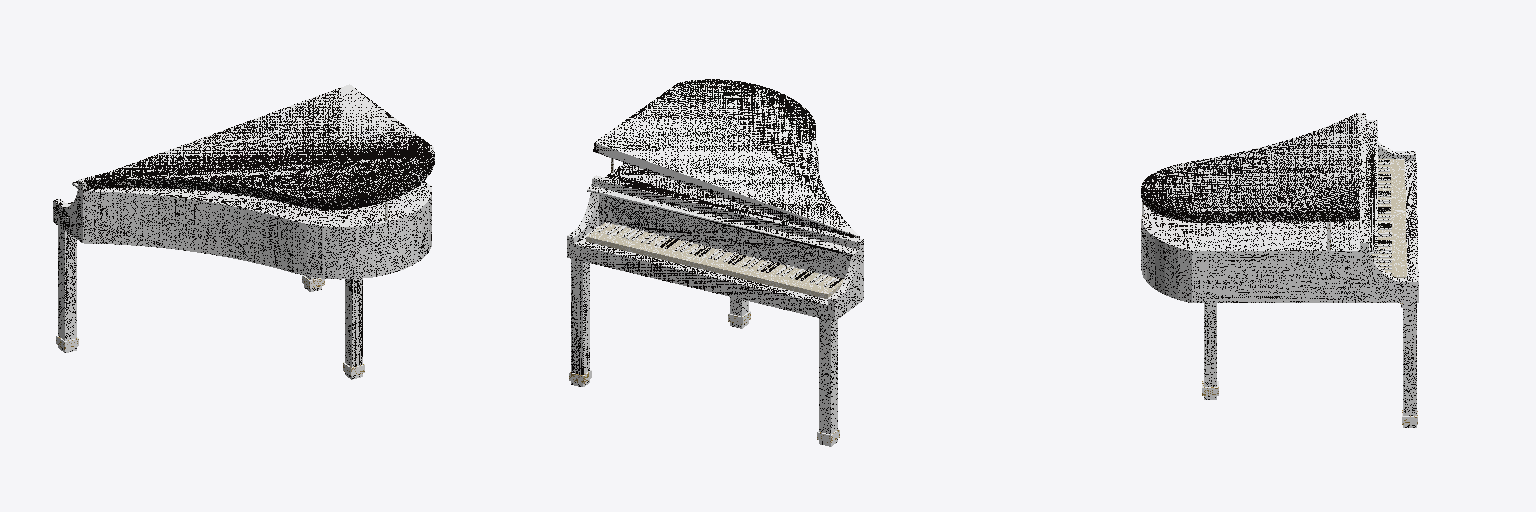
The picture shows the model from 3 angles: view 1: azimuth 30°, elevation 25°; view 2: azimuth 150°, elevation 25°; view 3: azimuth 270°, elevation 25°; orthographic projection.
Visible parts, largest first — view 1: mesh5_mesh5-geometry, mesh9_mesh9-geometry, mesh1_mesh1-geometry; view 2: mesh5_mesh5-geometry, mesh9_mesh9-geometry, mesh1_mesh1-geometry; view 3: mesh5_mesh5-geometry, mesh9_mesh9-geometry, mesh1_mesh1-geometry.
Boxes of the visible parts, x1,y1,x2,y2 form: mesh5_mesh5-geometry: [53, 173, 431, 279]; mesh9_mesh9-geometry: [86, 84, 434, 209]; mesh1_mesh1-geometry: [56, 226, 364, 379]; mesh5_mesh5-geometry: [567, 142, 863, 321]; mesh9_mesh9-geometry: [593, 79, 859, 238]; mesh1_mesh1-geometry: [569, 259, 839, 446]; mesh5_mesh5-geometry: [1141, 113, 1418, 302]; mesh9_mesh9-geometry: [1141, 113, 1359, 222]; mesh1_mesh1-geometry: [1202, 303, 1417, 427].
Size of the model in its own units: 0.6456 by 0.5025 by 0.5751.
7 materials, 2 textured.